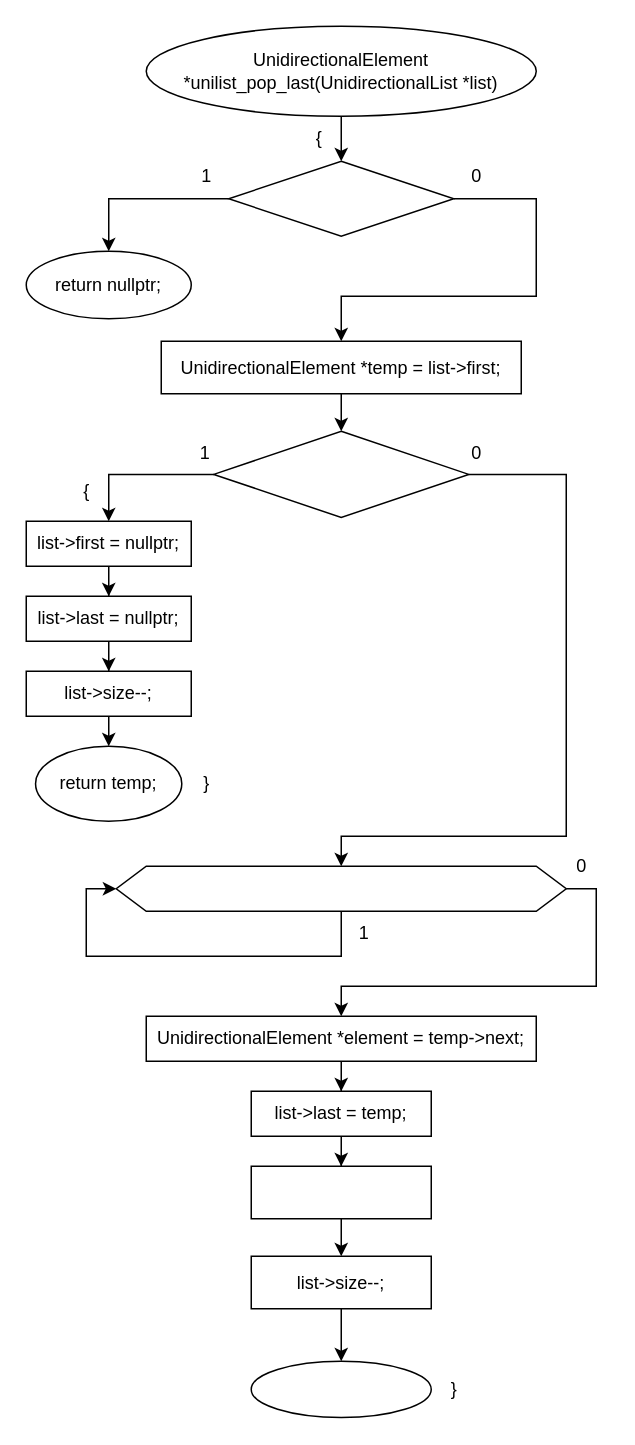
Image size: 635x1445. Some labels were removed from this diagram. Each missing label, with the box of its shape:
for (; temp->next != list->last; temp = temp->next): (115, 865, 566, 911)
if (list->first == list->last): (212, 430, 469, 518)
if (list->last == nullptr): (227, 160, 454, 236)
return element;: (250, 1360, 431, 1418)
temp->next = nullptr;: (250, 1165, 431, 1219)
